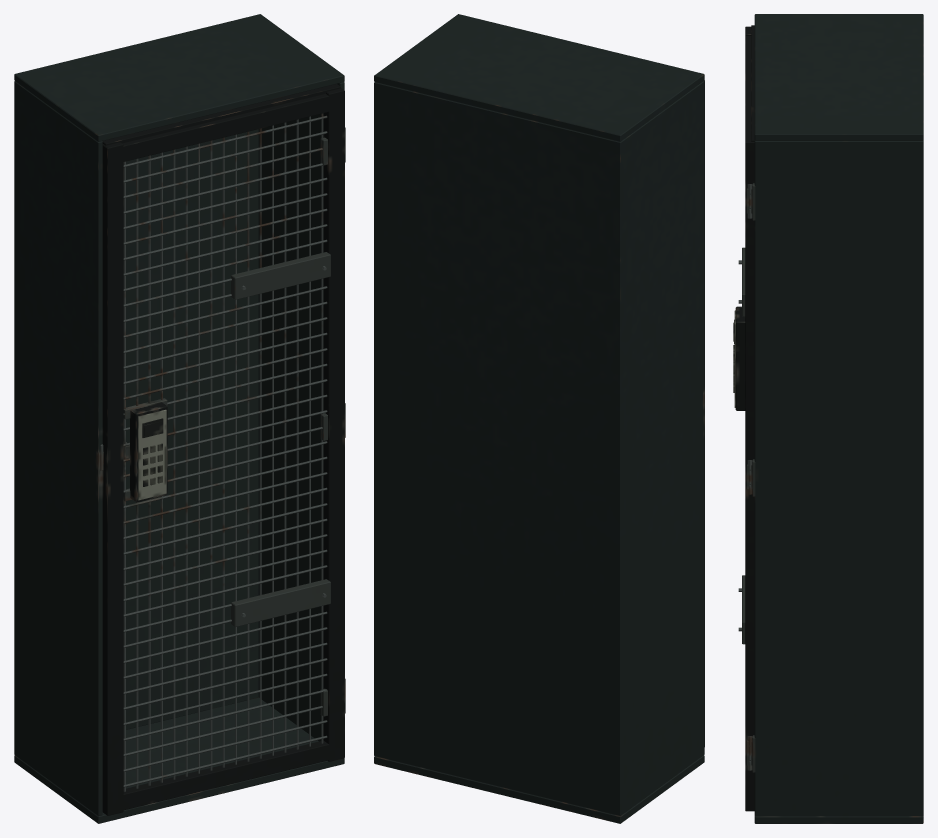
File: simple_gun_locker.glb
3 views of the same model, side by side, from view 1: azimuth 30°, elevation 25°; view 2: azimuth 150°, elevation 25°; view 3: azimuth 270°, elevation 25° (orthographic).
Visible parts, largest first — view 1: SimpleGunLockerBody, SimpleGunLockerDoor; view 2: SimpleGunLockerBody, SimpleGunLockerDoor; view 3: SimpleGunLockerBody, SimpleGunLockerDoor.
Part boxes in pixels (<box>): SimpleGunLockerBody: <box>14,14,345,823</box>; SimpleGunLockerDoor: <box>102,88,344,815</box>; SimpleGunLockerBody: <box>374,14,704,823</box>; SimpleGunLockerDoor: <box>704,80,704,746</box>; SimpleGunLockerBody: <box>747,14,923,823</box>; SimpleGunLockerDoor: <box>733,26,754,811</box>.
Size of what is drawn, in the model's own units: 0.6 by 1.6 by 0.4.
Materials: 1 (1 with a texture image).
